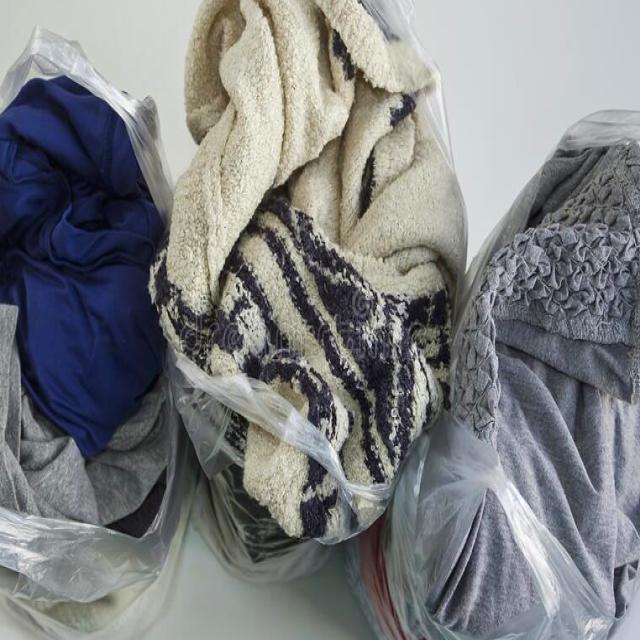clothes: (202, 2, 434, 428)
